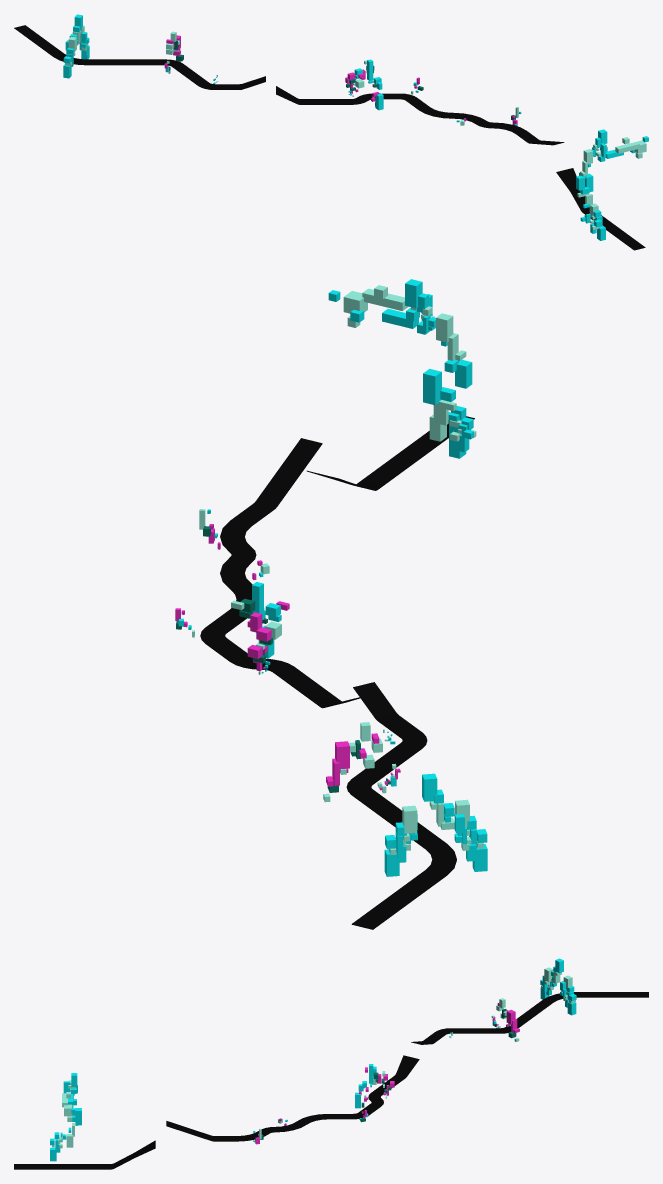
Rendered from Track_detalii.fbx.
The picture shows the model from 3 angles, top to bottom: view 1: azimuth 30°, elevation 25°; view 2: azimuth 150°, elevation 25°; view 3: azimuth 270°, elevation 25°; orthographic projection. The views are drawn at different scales.
Visible parts, largest first — view 1: Object118; view 2: Object118; view 3: Object118.
Part boxes in pixels (bbox=[...]): Object118: bbox=[14, 14, 648, 250]; Object118: bbox=[175, 279, 487, 929]; Object118: bbox=[14, 958, 648, 1169].
Bounding box in the file's own units: 47139 × 13056 × 82438.
